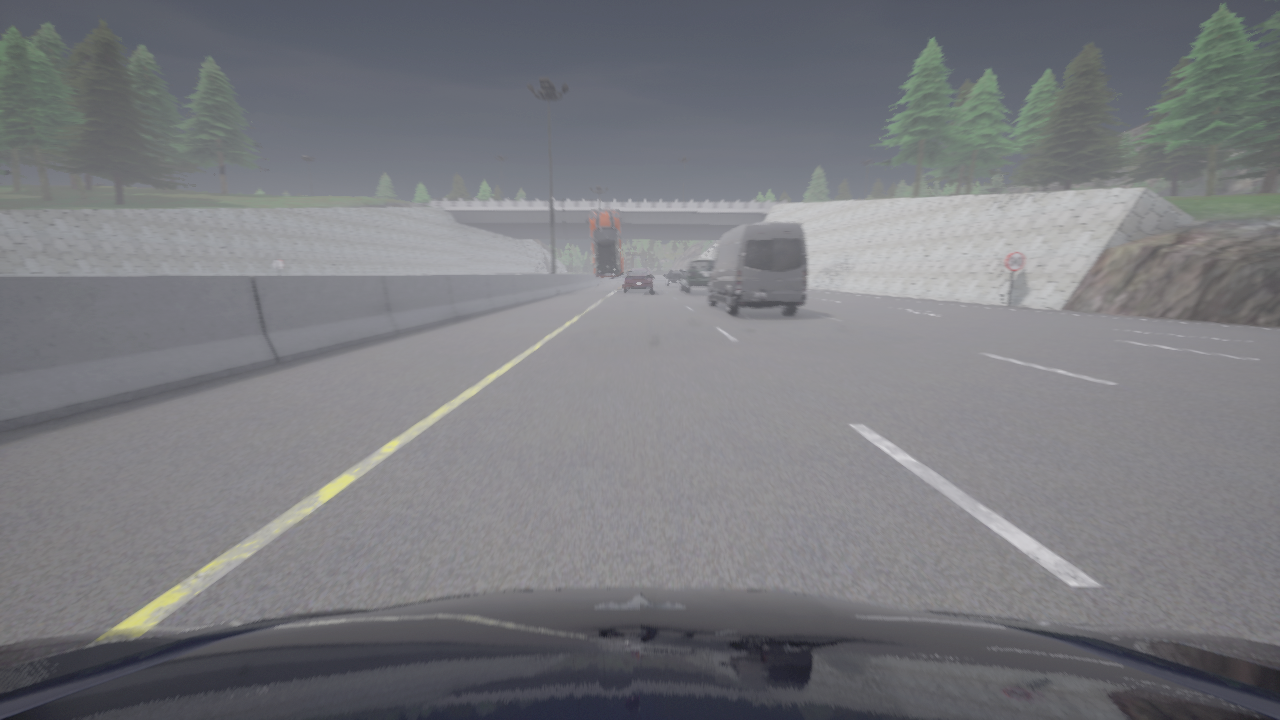cyclist: (0, 588, 1279, 719), (707, 223, 806, 315), (586, 210, 622, 278), (680, 260, 713, 293), (623, 269, 654, 293), (664, 271, 682, 286)
